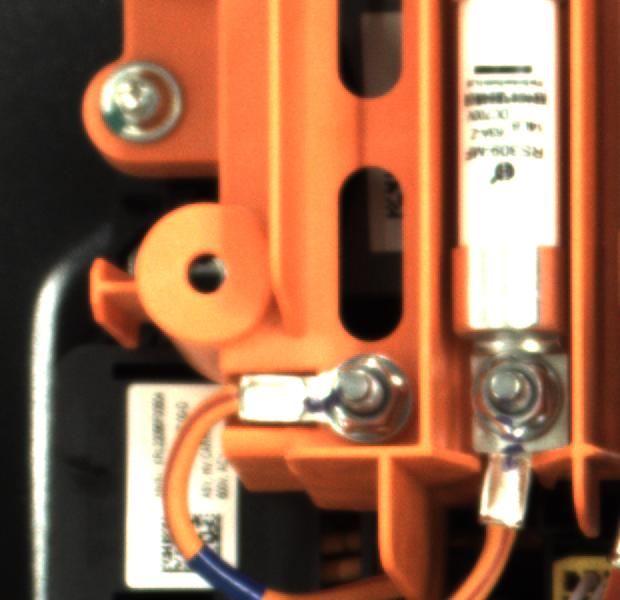screw_m: (85, 59, 199, 143)
screw_s: (464, 343, 565, 442), (317, 342, 408, 445)
